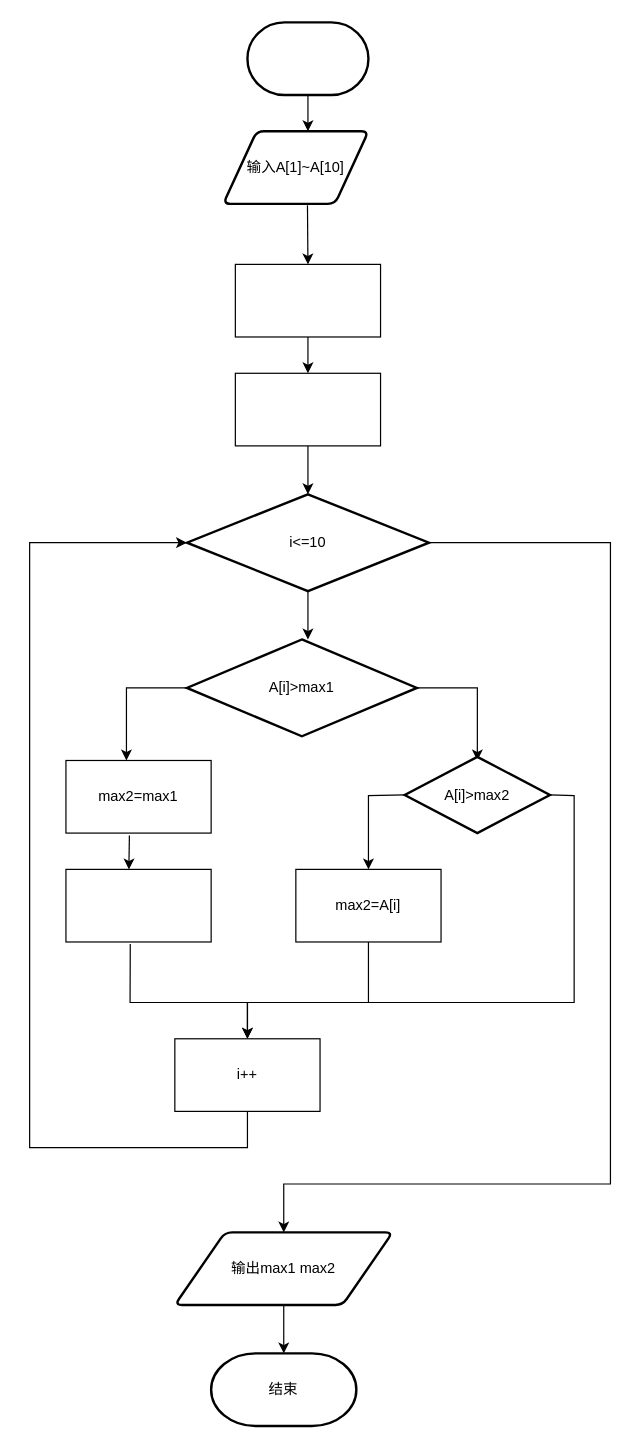
Some shapes in this 641 by 1447 pixel diagram are drawn without their labels. Here are the shapes that lost their labels. From the top down, the centre of each, then its label:
point (307, 58): 开始
point (307, 300): max1=A[1] max2=A[2]
point (307, 409): i=2
point (138, 905): max1=A[i]
